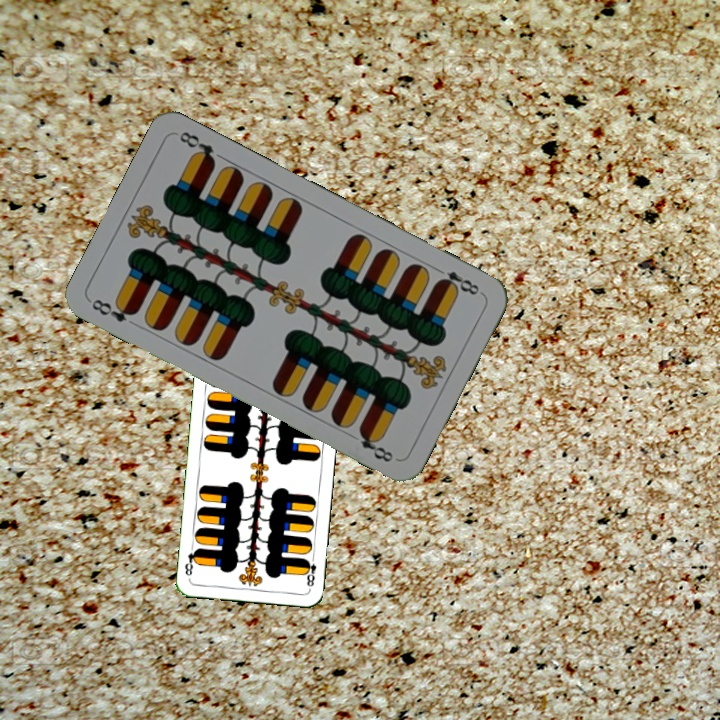E8: (430, 263, 482, 298), (87, 294, 140, 325), (301, 551, 319, 589)
